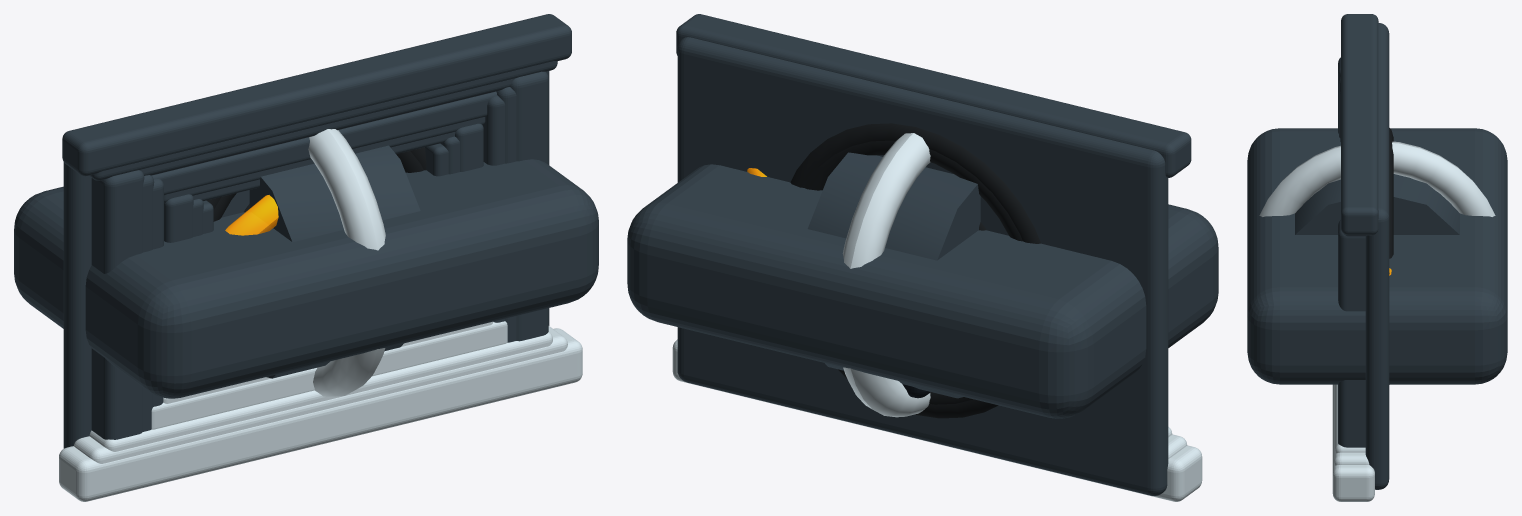
The model's file is body_15.glb.
3 renders of one model, left to right at view 1: azimuth 30°, elevation 25°; view 2: azimuth 150°, elevation 25°; view 3: azimuth 270°, elevation 25°, orthographic. The views are drawn at different scales.
Parts seen in each view (by area): view 1: asset_mesh__body_0764__reference_body, asset_mesh__body_0763__lower_flange, asset_mesh__body_0763__upper_flange, asset_mesh__body_0763__left_reinforcement, asset_mesh__body_0763__stamped_sheet, asset_mesh__body_0790__rotor, asset_mesh__body_0790__functional_ring, asset_mesh__body_0767__lower_flange, asset_mesh__body_0767__upper_flange, asset_mesh__body_0761__upper_flange, asset_mesh__body_0762__upper_flange, asset_mesh__body_0762__lower_flange (+14 smaller); view 2: asset_mesh__body_0764__reference_body, asset_mesh__body_0763__stamped_sheet, asset_mesh__body_0763__lower_flange, asset_mesh__body_0790__rotor, asset_mesh__body_0790__functional_ring, asset_mesh__body_0800__service_element, asset_mesh__body_0799__service_element, asset_mesh__body_0763__upper_flange; view 3: asset_mesh__body_0764__reference_body, asset_mesh__body_0763__stamped_sheet, asset_mesh__body_0763__lower_flange, asset_mesh__body_0790__functional_ring, asset_mesh__body_0790__rotor, asset_mesh__body_0763__right_reinforcement, asset_mesh__body_0763__upper_flange, asset_mesh__body_0800__service_element, asset_mesh__body_0762__upper_flange, asset_mesh__body_0761__upper_flange.
Boxes of the visible parts, <box> form: asset_mesh__body_0764__reference_body: <box>14,159,598,398</box>; asset_mesh__body_0763__lower_flange: <box>62,14,571,176</box>; asset_mesh__body_0763__upper_flange: <box>59,328,582,501</box>; asset_mesh__body_0763__left_reinforcement: <box>91,170,144,439</box>; asset_mesh__body_0763__stamped_sheet: <box>63,71,549,448</box>; asset_mesh__body_0790__rotor: <box>249,145,420,378</box>; asset_mesh__body_0790__functional_ring: <box>308,129,385,397</box>; asset_mesh__body_0767__lower_flange: <box>152,91,496,195</box>; asset_mesh__body_0767__upper_flange: <box>151,321,507,429</box>; asset_mesh__body_0761__upper_flange: <box>89,332,552,451</box>; asset_mesh__body_0762__upper_flange: <box>74,326,567,463</box>; asset_mesh__body_0762__lower_flange: <box>89,61,557,180</box>; asset_mesh__body_0764__reference_body: <box>627,164,1218,418</box>; asset_mesh__body_0763__stamped_sheet: <box>677,37,1168,495</box>; asset_mesh__body_0763__lower_flange: <box>676,14,1191,177</box>; asset_mesh__body_0790__rotor: <box>807,152,980,398</box>; asset_mesh__body_0790__functional_ring: <box>842,133,930,417</box>; asset_mesh__body_0800__service_element: <box>790,123,1040,418</box>; asset_mesh__body_0799__service_element: <box>804,140,1022,404</box>; asset_mesh__body_0763__upper_flange: <box>672,339,1202,501</box>; asset_mesh__body_0764__reference_body: <box>1247,128,1507,384</box>; asset_mesh__body_0763__stamped_sheet: <box>1365,23,1389,489</box>; asset_mesh__body_0763__lower_flange: <box>1341,14,1378,235</box>; asset_mesh__body_0790__functional_ring: <box>1259,141,1495,216</box>; asset_mesh__body_0790__rotor: <box>1295,174,1459,234</box>; asset_mesh__body_0763__right_reinforcement: <box>1338,220,1365,447</box>; asset_mesh__body_0763__upper_flange: <box>1332,384,1374,501</box>; asset_mesh__body_0800__service_element: <box>1389,128,1393,258</box>; asset_mesh__body_0762__upper_flange: <box>1334,384,1369,465</box>; asset_mesh__body_0761__upper_flange: <box>1335,384,1365,453</box>.
Bounding box in the file's own units: 1.63 × 1.09 × 0.882.
